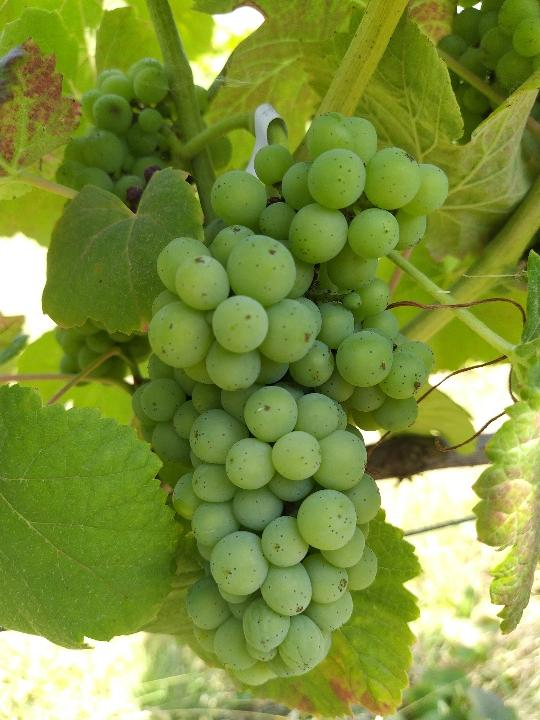grape: (129, 111, 449, 690)
